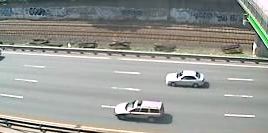car: (112, 98, 169, 125), (163, 69, 207, 89)
